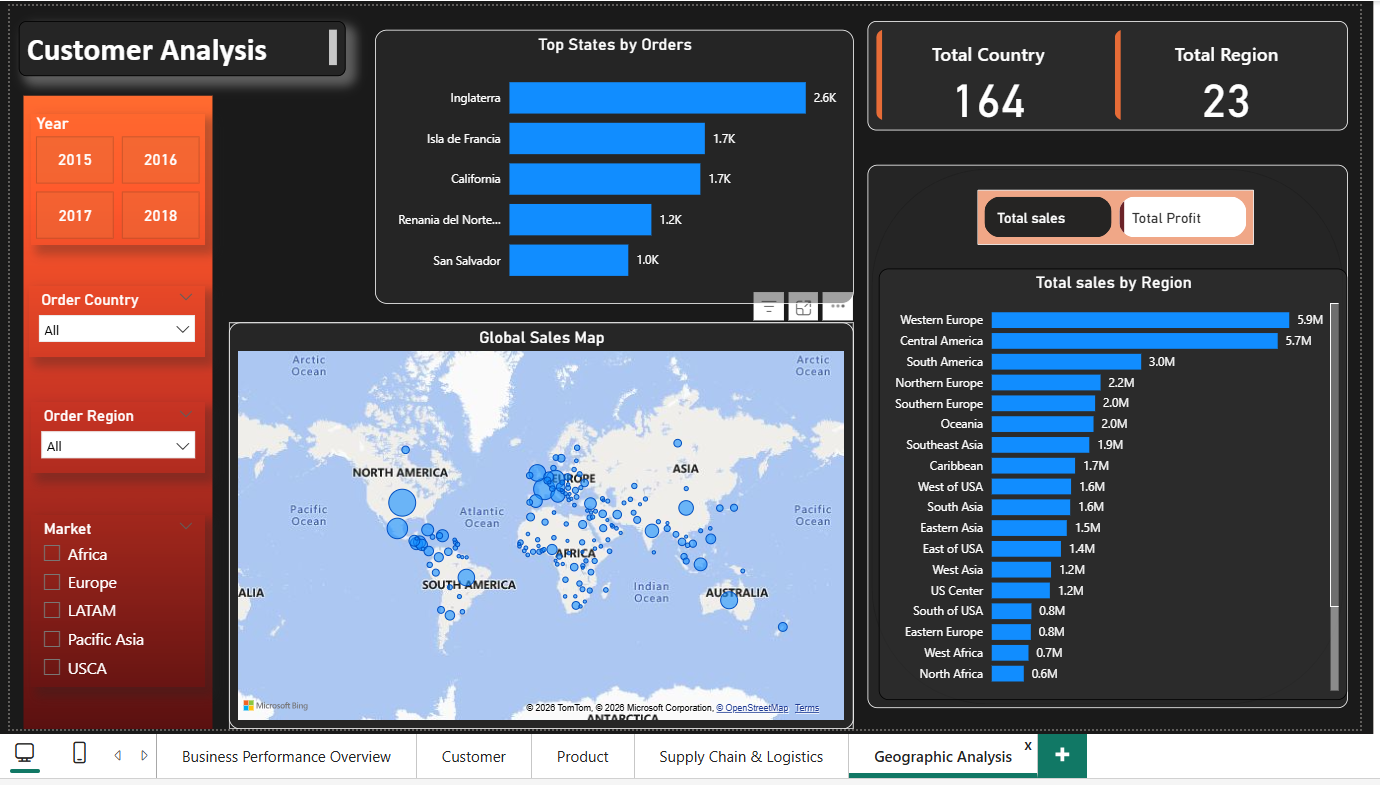

Layout of this report page (visuals, bound fields, positions):
{"tool":"powerbi","page":{"name":"Geographic Analysis","canvas":[1371,735],"ordinal":4},"visuals":[{"type":"image","box":[8.7,85.9,201.8,655.1],"z":0},{"type":"shape","box":[871.1,161.3,487.6,552.4],"z":0,"group":"g1"},{"type":"map","title":"Global Sales Map","fields":{"Category":["fact_orders.Order Country"],"Size":["Sum(fact_orders.Sales)"]},"box":[222.2,321.3,634.9,414],"z":1000},{"type":"clusteredBarChart","title":"Top States by Orders","fields":{"Category":["fact_orders.Order State"],"Y":["Count(fact_orders.Order Id)"]},"box":[370.8,24.1,486.4,278.1],"z":2000},{"type":"group","id":"g1","title":"Group 1","box":[871.1,161.3,487.6,552.4],"z":3000},{"type":"advancedSlicerVisual","fields":{"Values":["Parameter.Parameter"]},"box":[982.8,186.7,280.6,55.9],"z":3000,"group":"g1"},{"type":"textbox","box":[9.5,14.9,332.3,55.6],"z":4000},{"type":"cardVisual","fields":{"Data":["Count(fact_orders.Order Country)","Count(fact_orders.Order Region)"]},"box":[870.6,14.9,488.2,110.8],"z":5000},{"type":"slicer","fields":{"Values":["fact_orders.Order Region"]},"box":[21.6,402.6,176.5,72.4],"z":6000},{"type":"advancedSlicerVisual","fields":{"Values":["fact_orders.order date (DateOrders).Variation.Date Hierarchy.Year"]},"box":[21.6,109.2,176.5,133.3],"z":7000},{"type":"slicer","fields":{"Values":["fact_orders.Order Country"]},"box":[19,284.5,179.1,72.4],"z":8000},{"type":"slicer","fields":{"Values":["fact_orders.Market"]},"box":[21.6,516.8,176.5,175.2],"z":9000},{"type":"clusteredBarChart","fields":{"Y":["fact_orders.Total sales"],"Category":["fact_orders.Order Region"]},"box":[882.6,266.7,476.2,438.1],"z":10000}]}

Visuals, with their boxes in screenshot pixels (x1, y1, x2, y2):
image: Rect(30, 110, 231, 761)
shape: Rect(886, 185, 1370, 734)
"Global Sales Map" map: Rect(242, 344, 872, 755)
"Top States by Orders" clusteredBarChart: Rect(390, 49, 872, 325)
"Group 1" group: Rect(886, 185, 1370, 734)
advancedSlicerVisual - Parameter.Parameter: Rect(997, 210, 1276, 266)
textbox: Rect(31, 40, 361, 95)
cardVisual - Count(fact_orders.Order Country) x Count(fact_orders.Order Region): Rect(886, 40, 1370, 150)
slicer - fact_orders.Order Region: Rect(43, 425, 218, 497)
advancedSlicerVisual - fact_orders.order date (DateOrders).Variation.Date Hierarchy.Year: Rect(43, 134, 218, 266)
slicer - fact_orders.Order Country: Rect(40, 308, 218, 379)
slicer - fact_orders.Market: Rect(43, 538, 218, 712)
clusteredBarChart - fact_orders.Total sales x fact_orders.Order Region: Rect(898, 290, 1370, 725)
